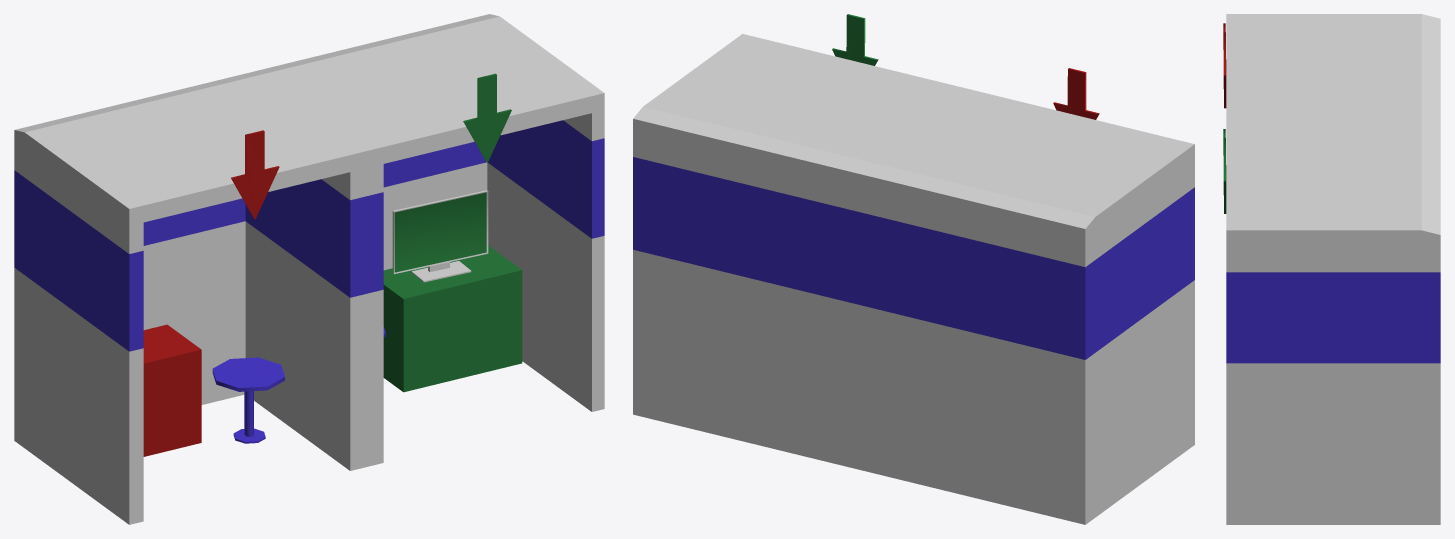
Rendered from donationbooth.FBX.
The picture shows the model from 3 angles, left to right: view 1: azimuth 30°, elevation 25°; view 2: azimuth 150°, elevation 25°; view 3: azimuth 270°, elevation 25°; orthographic projection. The views are drawn at different scales.
Parts seen in each view (by area): view 1: Box001, Box005, Box006, Box002, Cylinder004, Box007, Box008; view 2: Box001, Box007, Box008; view 3: Box001, Box007, Box008.
Part boxes in pixels (box(x1,y1,x2,y2)): Box001: box(14, 14, 604, 524); Box005: box(383, 245, 522, 392); Box006: box(392, 190, 488, 282); Box002: box(143, 324, 201, 456); Cylinder004: box(212, 357, 284, 443); Box007: box(231, 130, 279, 219); Box008: box(463, 73, 511, 162); Box001: box(633, 34, 1194, 524); Box007: box(1053, 68, 1099, 119); Box008: box(832, 14, 878, 65); Box001: box(1226, 14, 1440, 524); Box007: box(1223, 23, 1226, 108); Box008: box(1223, 129, 1226, 213).
Bounding box in the file's own units: 80 × 58.27 × 33.98.
